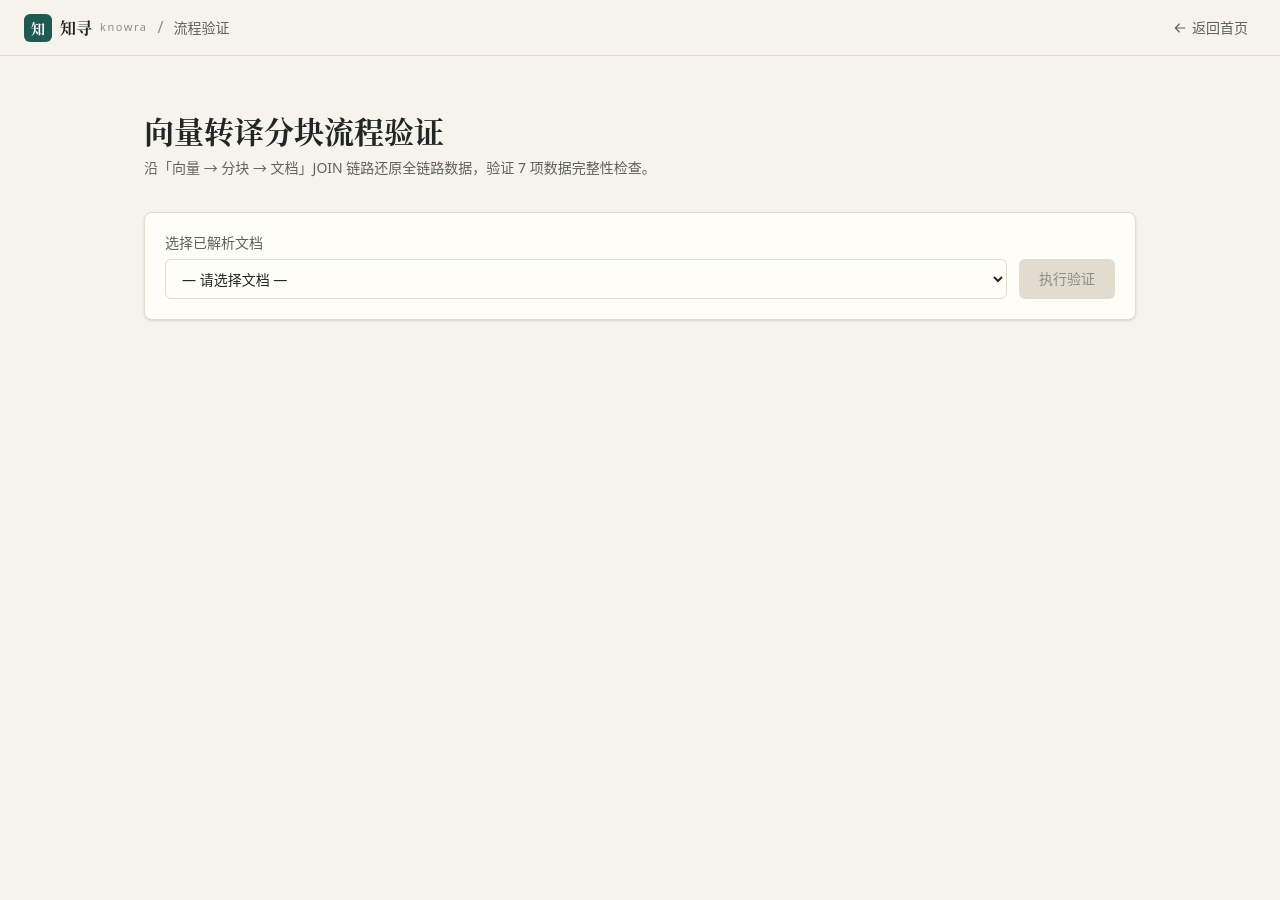
Test: VerificationView › 成功响应渲染 › 验证成功后渲染分块-向量对照表，每行包含序号和文本
Select "测试文档 1.pdf (5 段)" in the dropdown with test id "document-select" at (586,279), box [165,259,1007,299]
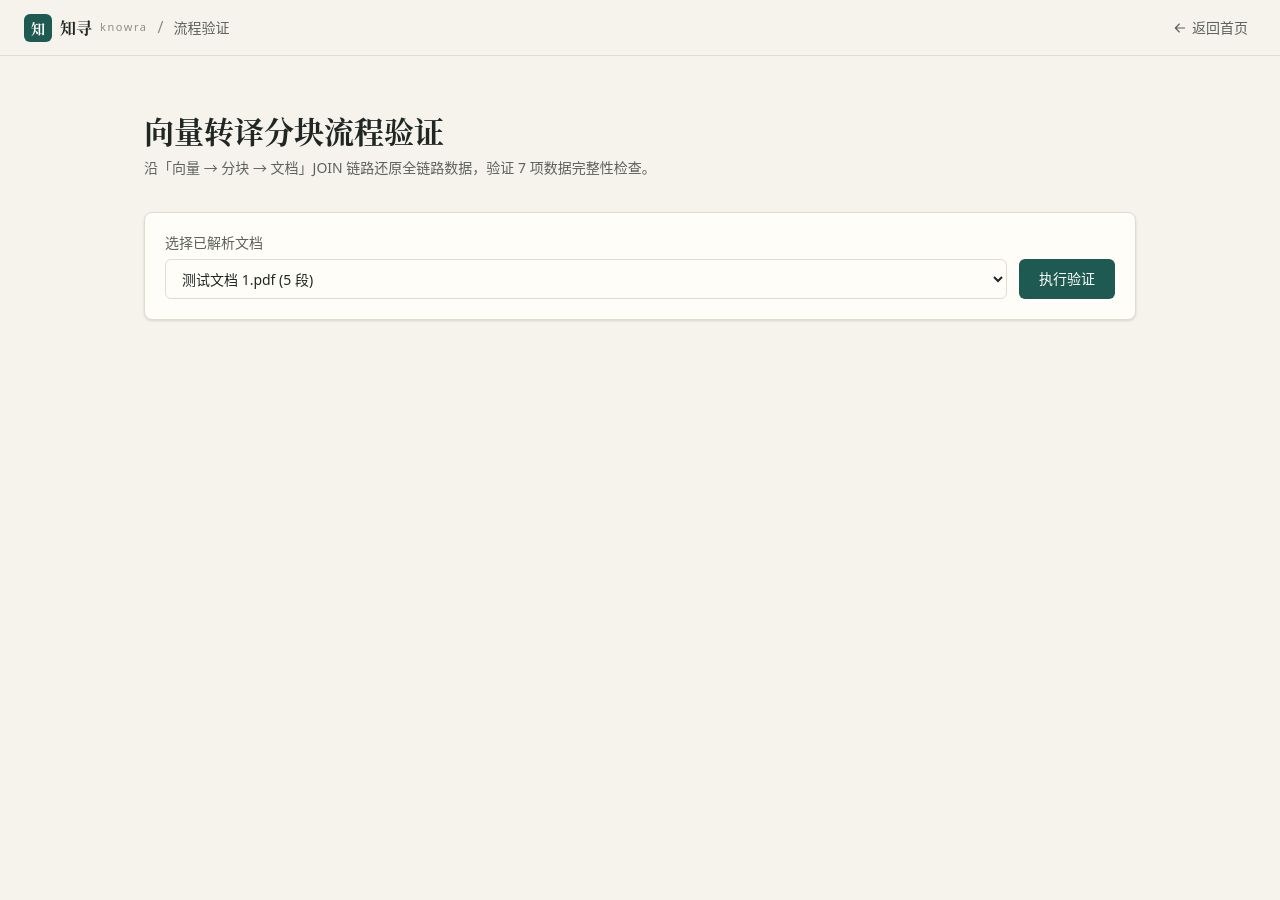
Click the button with test id "verify-button" at (1067,279), box [1019,259,1115,299]
(page scrolled)
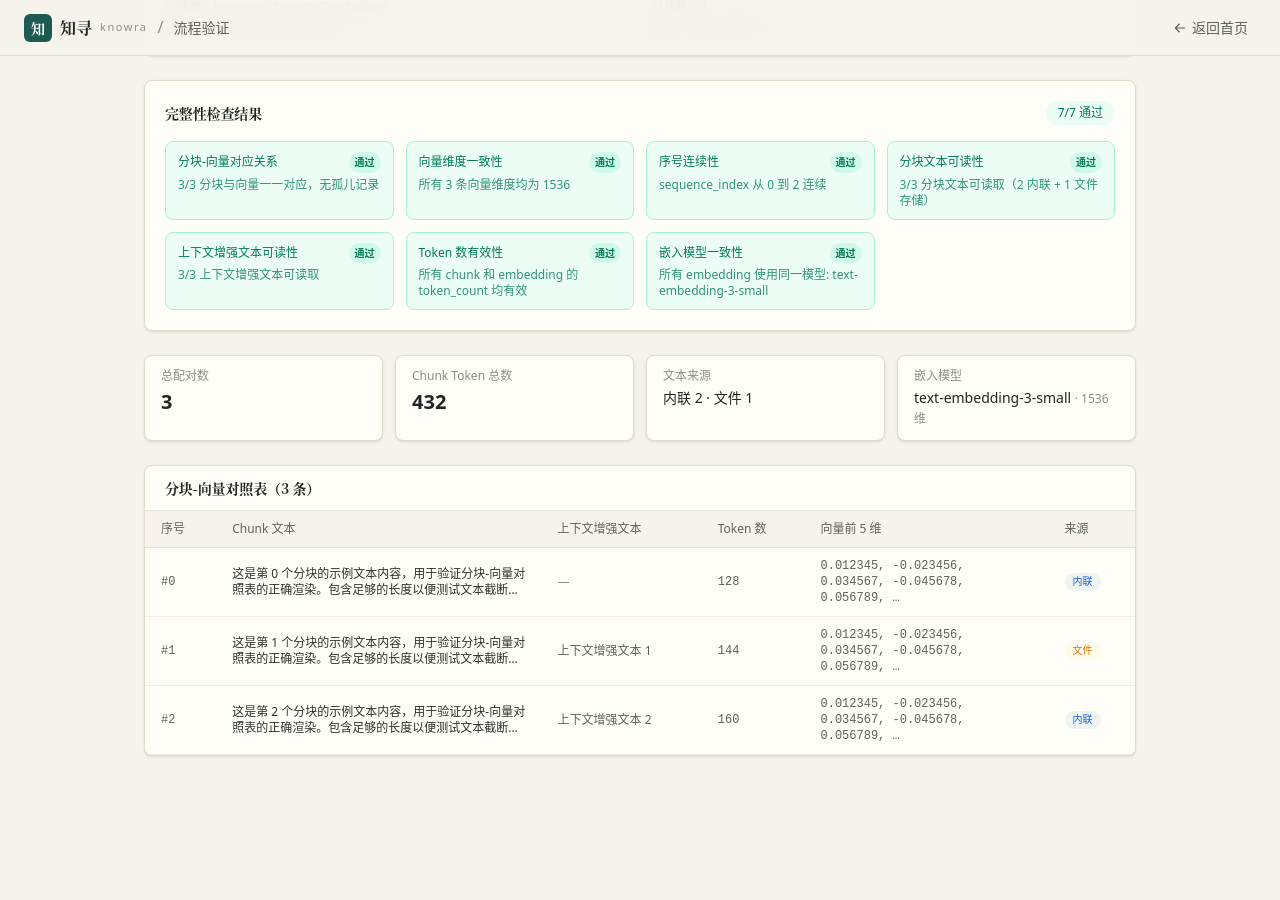
Now the element with test id "pairs-table" is shown, box [144,465,1136,756]
Now the number of rows with test id "pair-row" is 3, box [145,548,1135,616]; [145,616,1135,686]; [145,686,1135,754]
Now the row with test id "pair-row" shows "#0", box [161,575,175,589]
